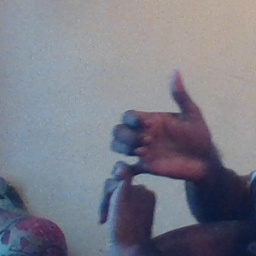S: (94, 58, 213, 232)
